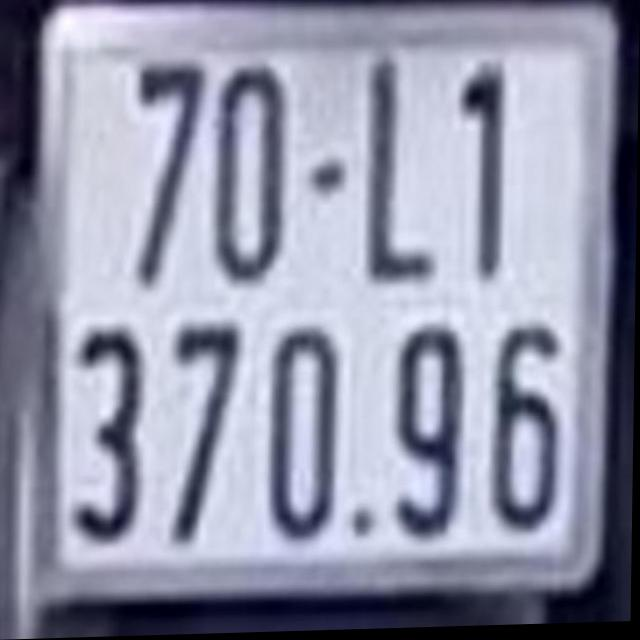0: (270, 321, 343, 540), (215, 68, 287, 285)
1: (458, 61, 511, 286)
3: (71, 323, 145, 539)
6: (498, 326, 563, 535)
7: (131, 67, 200, 279), (178, 316, 241, 540)
9: (397, 330, 467, 539)
L: (359, 60, 442, 283)
